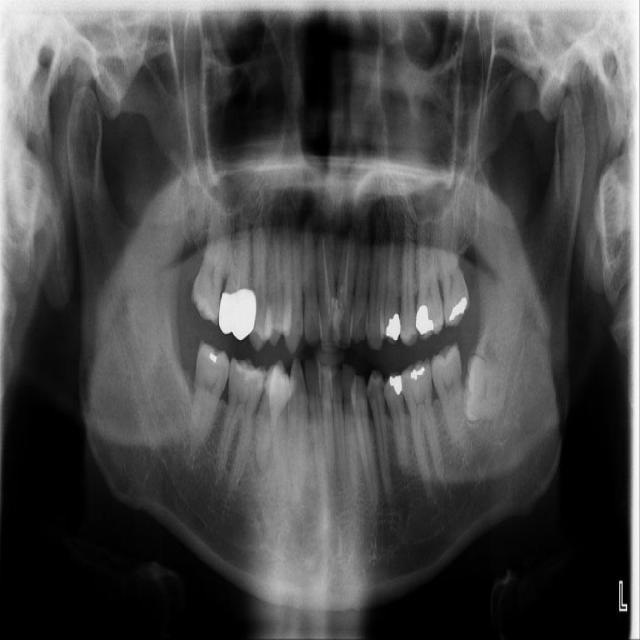52: (183, 339, 238, 399), (216, 285, 259, 344), (441, 274, 472, 331), (401, 358, 432, 411), (316, 294, 342, 354), (415, 288, 444, 340), (332, 293, 354, 351), (381, 371, 405, 416), (379, 302, 401, 345)
73: (222, 206, 252, 292), (310, 233, 337, 305), (335, 227, 359, 307), (608, 605, 613, 614)
BioHorizons Implant: (437, 195, 471, 330)
Biomet 3i Implant: (461, 354, 509, 426)
Blue Sky Bio Implant: (428, 341, 469, 448)
Caries: (187, 196, 237, 327)
Implant: (190, 340, 232, 453)
